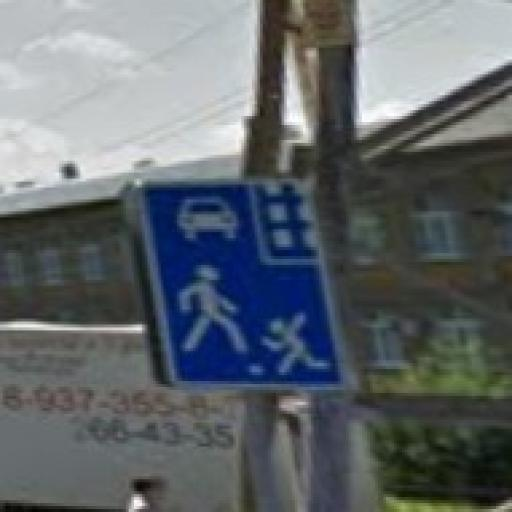traffic_sign: (135, 174, 355, 394)
